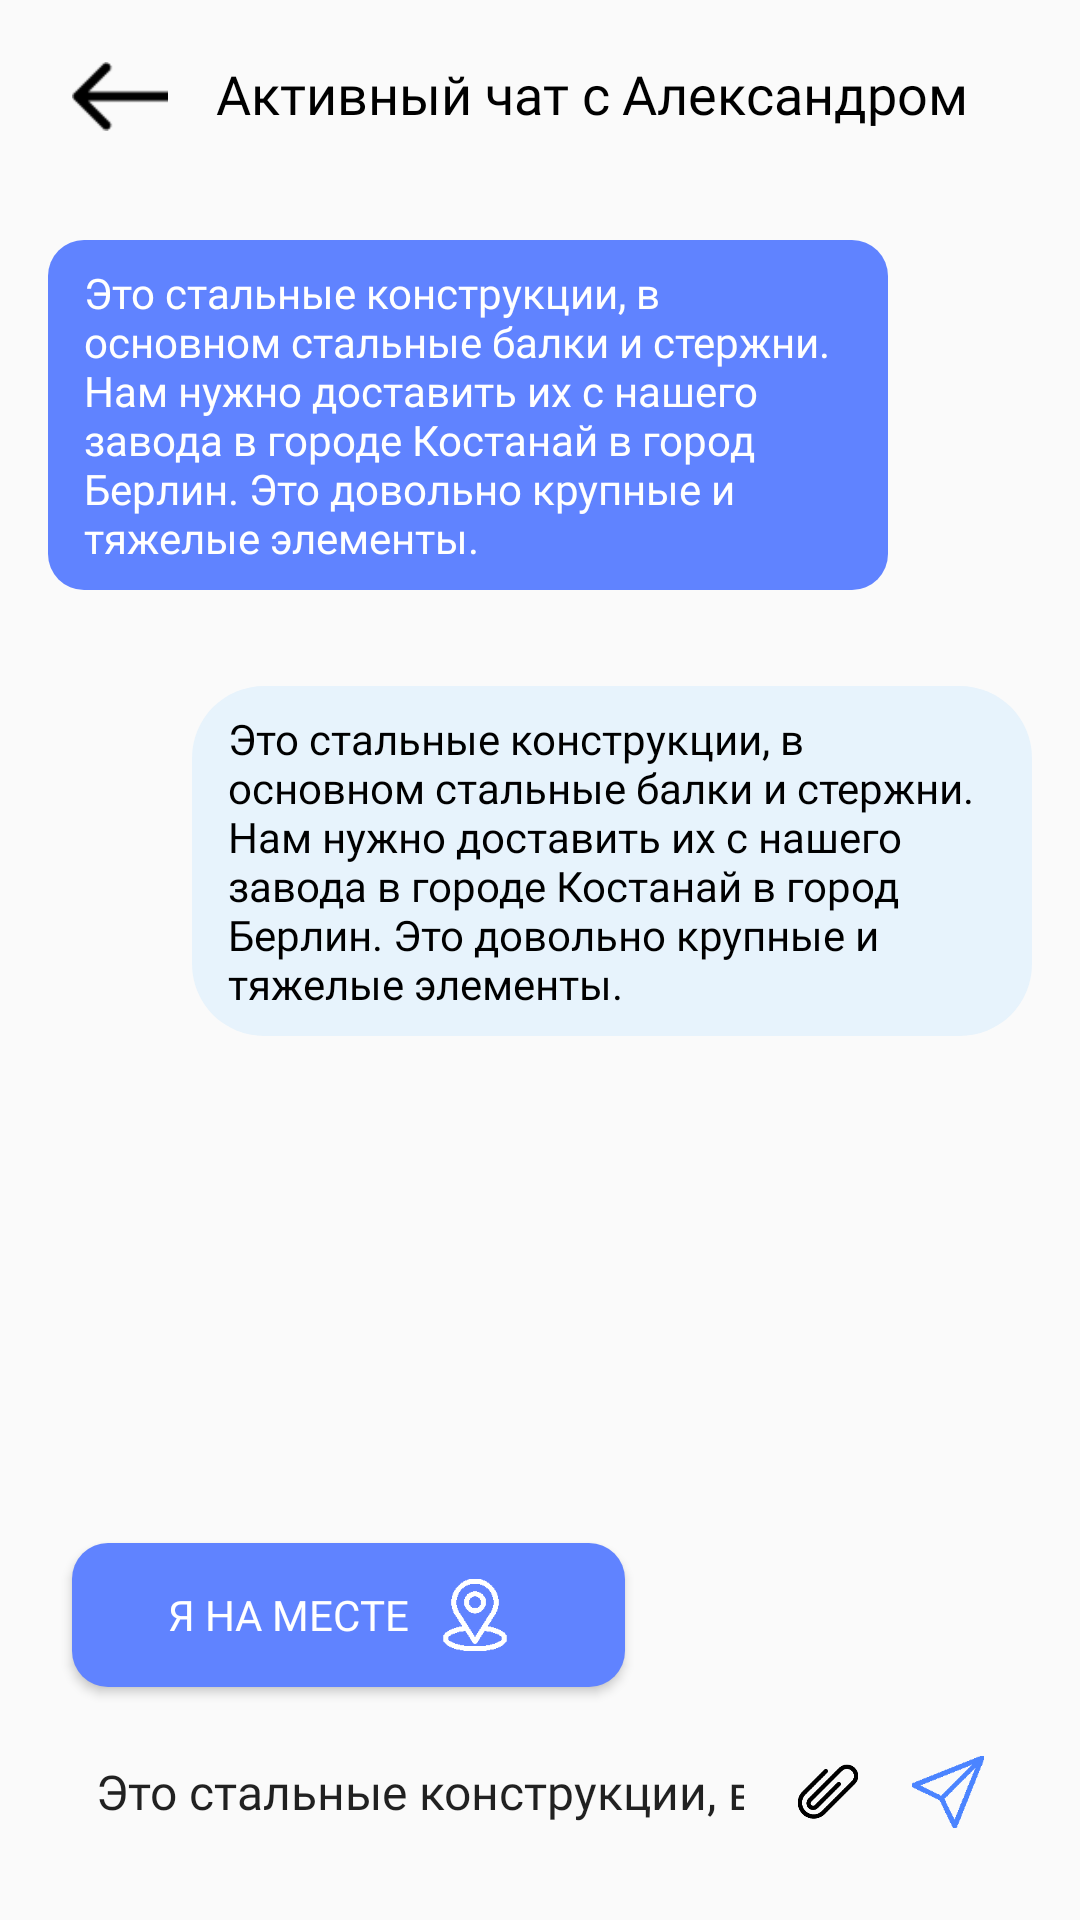

Named icons in this screenshot (1080px x 1920px) and their bounding boxes, (x1, y1, x2, y2):
attach: (798, 1764, 858, 1819)
on position: (443, 1579, 507, 1651)
send: (912, 1756, 984, 1828)
Выйти: (72, 62, 168, 131)
